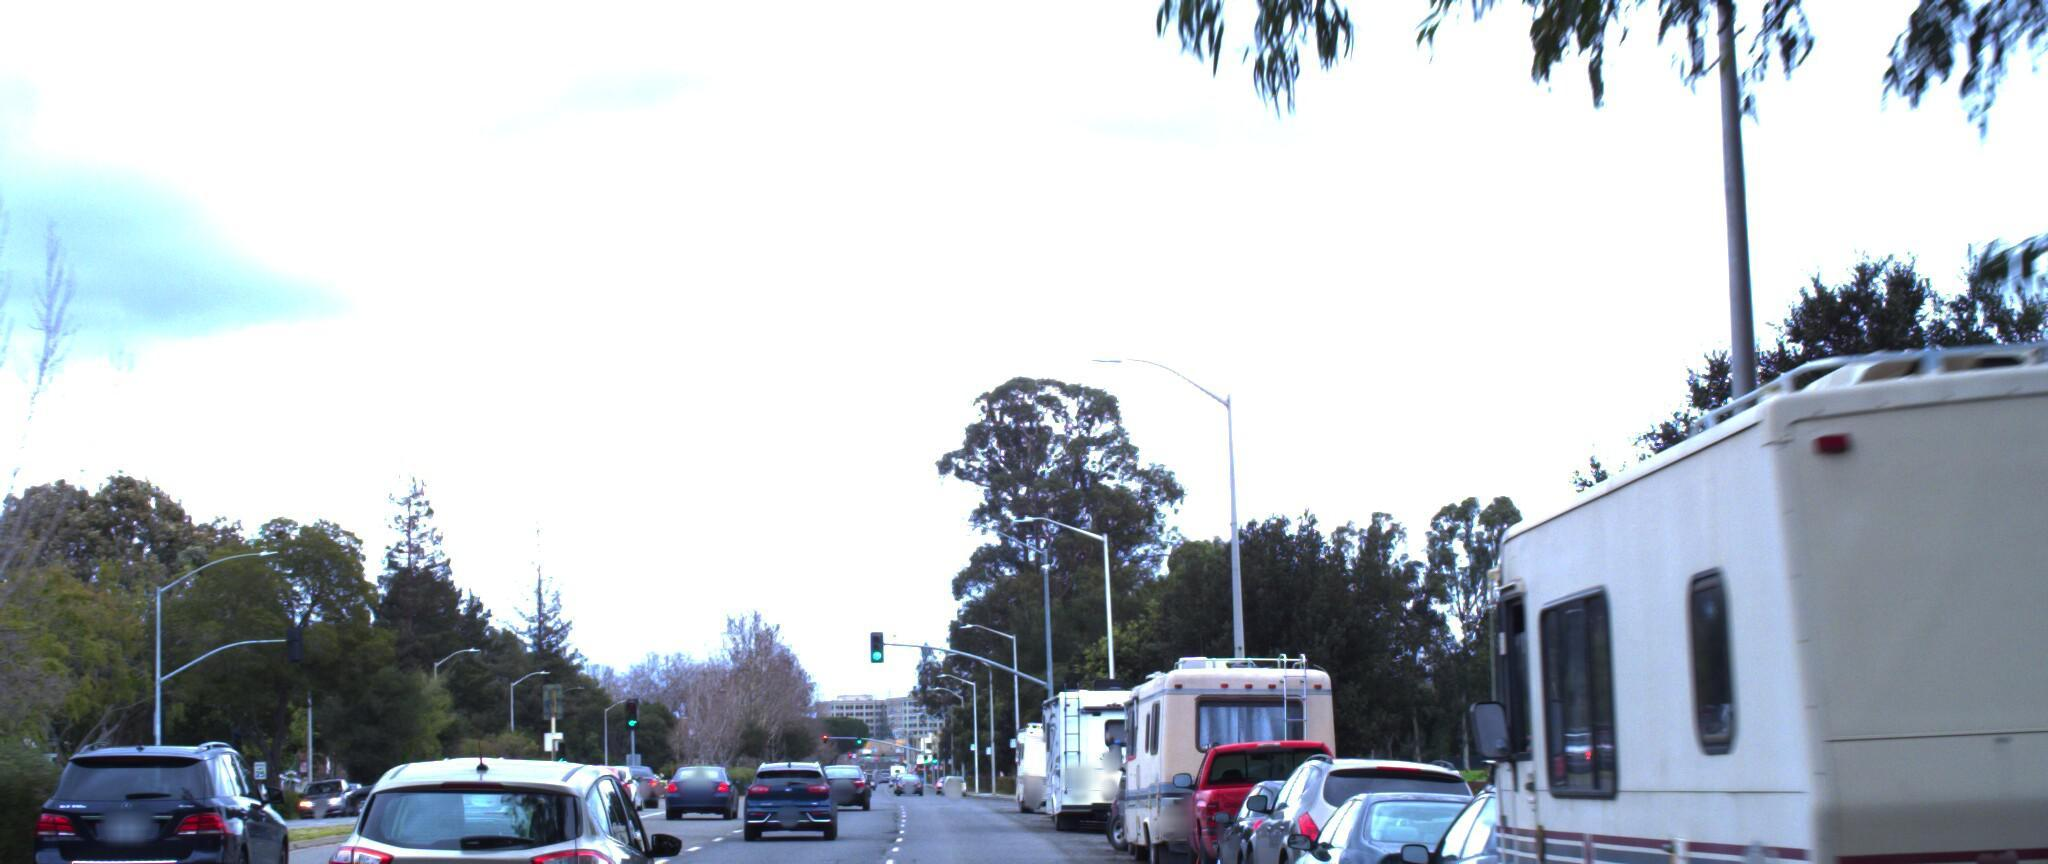car: (1374, 764, 1819, 864), (313, 754, 697, 864), (40, 743, 316, 864), (1243, 757, 1512, 864), (1275, 788, 1597, 864), (1186, 743, 1383, 864), (750, 765, 853, 846), (667, 766, 748, 826), (1994, 837, 2048, 864)
other_vehicle: (1460, 161, 2048, 864), (1123, 653, 1353, 864), (1044, 683, 1196, 838)
